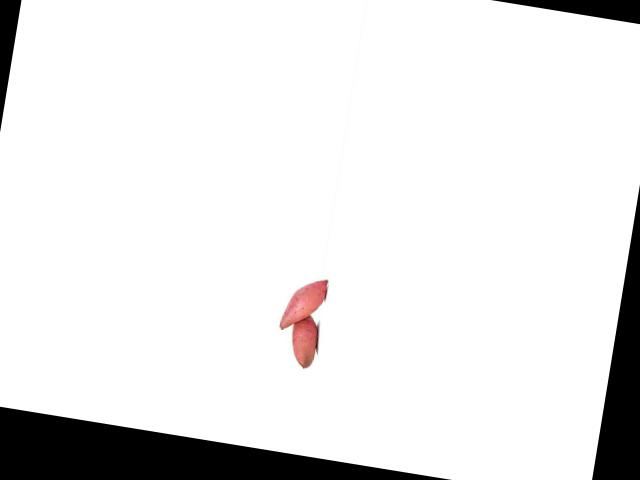sweet_potato: (283, 307, 322, 371)
